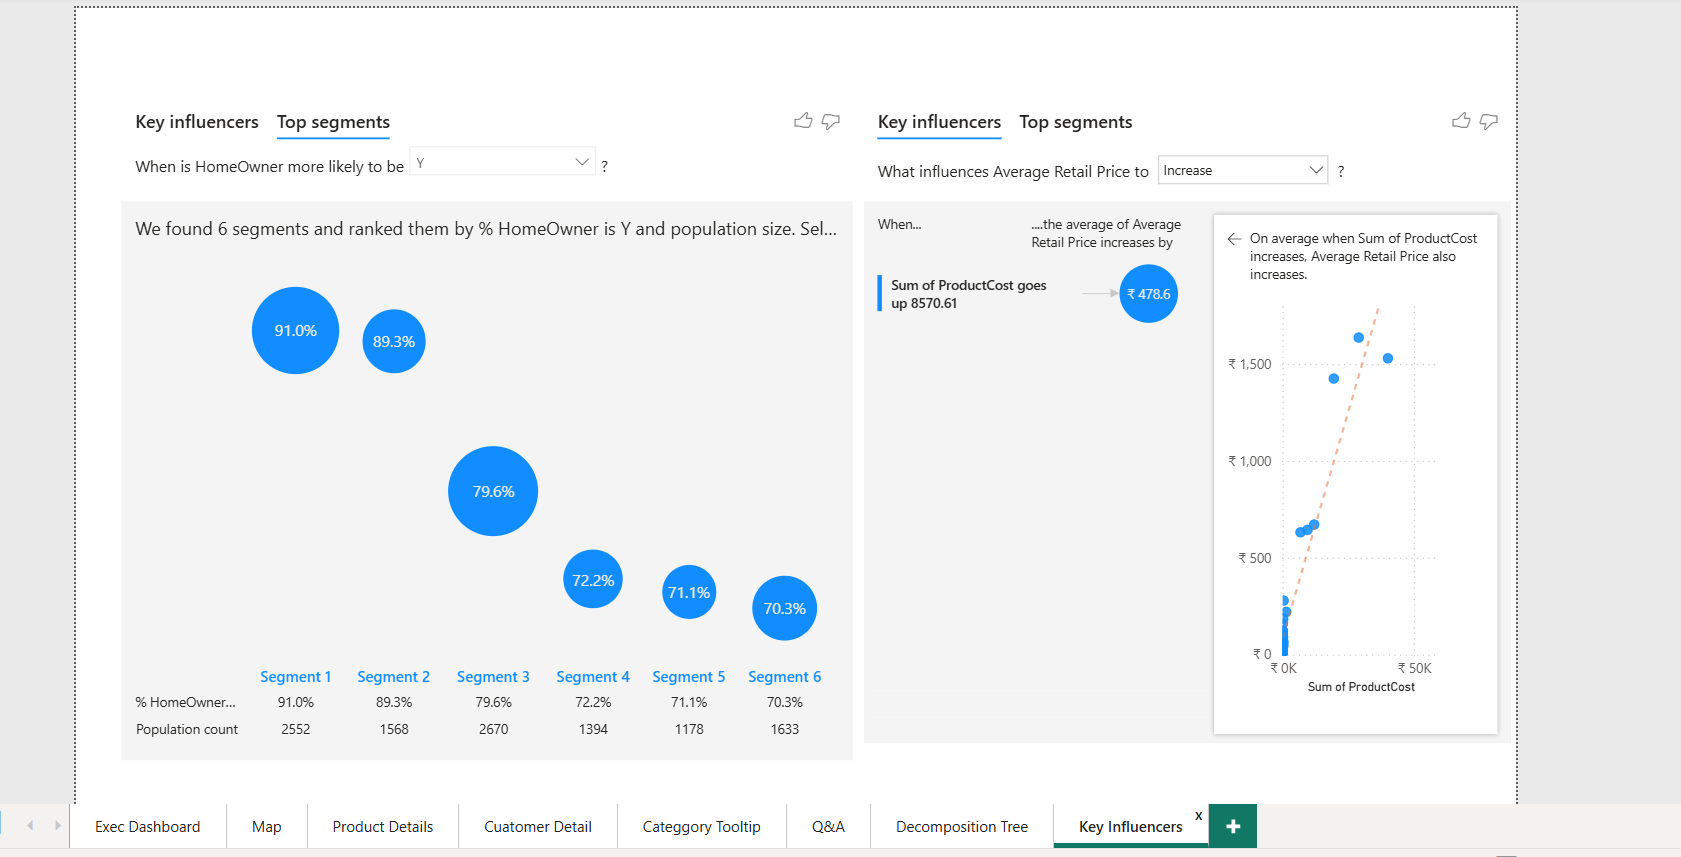

What the dashboard file says about the page in this screenshot:
{"tool":"powerbi","page":{"name":"Key Influencers","canvas":[1280,720],"ordinal":7},"visuals":[{"type":"keyDriversVisual","fields":{"Target":["Customer Lookup.HomeOwner"],"ExplainBy":["Customer Lookup.AnnualIncome","Customer Lookup.EducationLevel","Customer Lookup.Parent","Customer Lookup.MaritalStatus","Customer Lookup.Occupation"]},"box":[35,76.7,660,596.7],"z":0},{"type":"keyDriversVisual","fields":{"ExplainBy":["Sum(Product Lookup.ProductCost)"],"Details":["Product Subcategories Lookup.SubcategoryName"],"Target":["Measure Table.Average Retail Price"]},"box":[695,76.7,585,581.7],"z":1000}]}

Visuals, with their boxes on the page's 1280x720 design canvas (x1, y1, x2, y2). These are canvas units, not pixel positions in the 1681x857 screenshot, which may show the page scaled, cropped or inside an application window:
keyDriversVisual - Customer Lookup.HomeOwner x Customer Lookup.AnnualIncome: x1=35, y1=77, x2=695, y2=673
keyDriversVisual - Sum(Product Lookup.ProductCost) x Product Subcategories Lookup.SubcategoryName: x1=695, y1=77, x2=1280, y2=658
